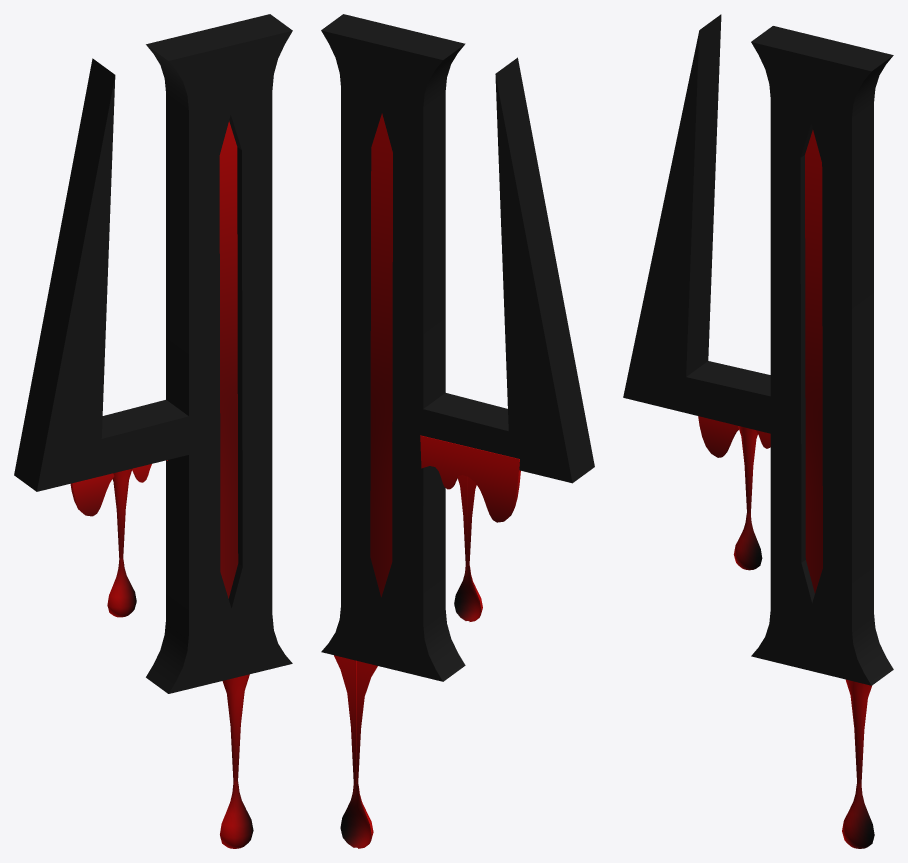
3 renders of one model, left to right at view 1: azimuth 30°, elevation 25°; view 2: azimuth 150°, elevation 25°; view 3: azimuth 330°, elevation 25°, orthographic. The views are drawn at different scales.
Visible parts, largest first — view 1: 4, 4_Element, Blood_446, Blood_316, Blood_447; view 2: 4, 4_Element, Blood_447, Blood_446, Blood_316; view 3: 4, 4_Element, Blood_446, Blood_316, Blood_447.
Part boxes in pixels (bbox=[...]): 4: bbox=[14, 14, 292, 693]; 4_Element: bbox=[219, 121, 238, 598]; Blood_446: bbox=[220, 674, 253, 848]; Blood_316: bbox=[107, 468, 136, 617]; Blood_447: bbox=[70, 460, 167, 516]; 4: bbox=[321, 14, 594, 681]; 4_Element: bbox=[370, 113, 392, 597]; Blood_447: bbox=[420, 435, 520, 522]; Blood_446: bbox=[334, 655, 377, 848]; Blood_316: bbox=[454, 475, 482, 621]; 4: bbox=[623, 14, 893, 685]; 4_Element: bbox=[805, 130, 822, 593]; Blood_446: bbox=[842, 679, 874, 848]; Blood_316: bbox=[733, 426, 762, 570]; Blood_447: bbox=[698, 416, 770, 457].
Size of the model in its own units: 32.46 by 99.89 by 5.06.
2 materials, 1 textured.
